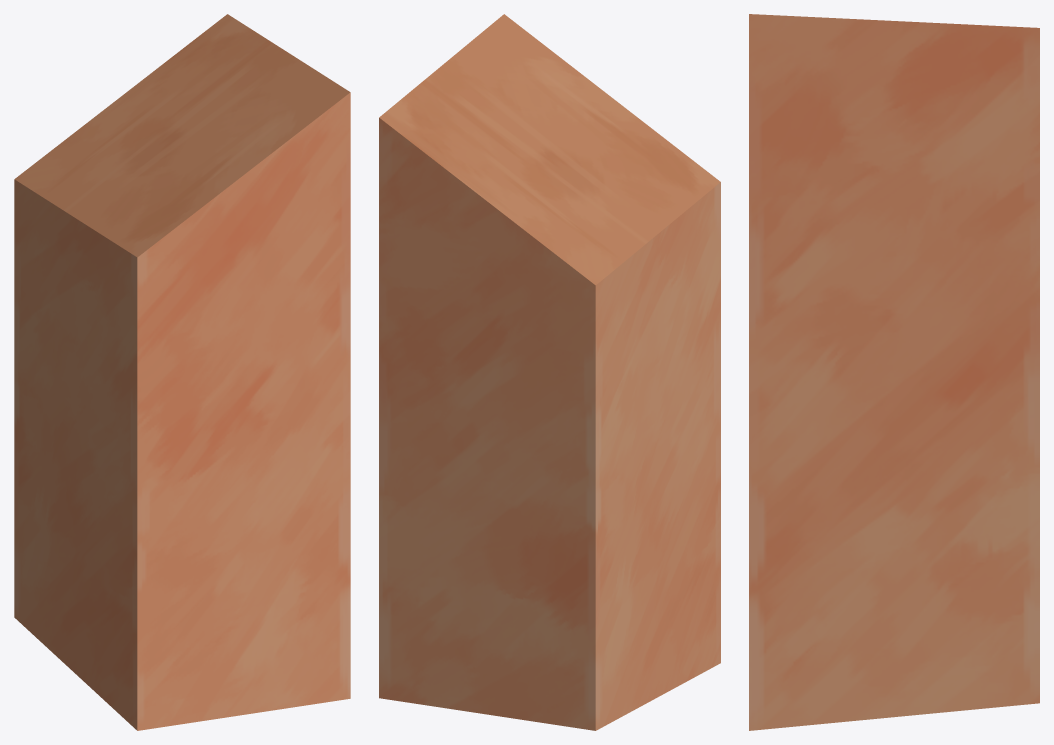
Rendered from corner_upper_s02.fbx.
3 views of the same model, side by side, from view 1: azimuth 30°, elevation 25°; view 2: azimuth 150°, elevation 25°; view 3: azimuth 270°, elevation 25° (orthographic). The views are drawn at different scales.
Visible parts, largest first — view 1: corner_upper_s02; view 2: corner_upper_s02; view 3: corner_upper_s02.
Boxes of the visible parts, <box> form: corner_upper_s02: <box>14,14,350,730</box>; corner_upper_s02: <box>379,14,720,730</box>; corner_upper_s02: <box>749,14,1039,730</box>.
Bounding box in the file's own units: 1.5 × 4.08 × 1.5.
